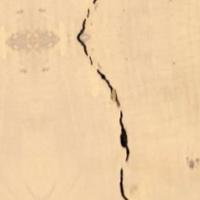crack: (54, 0, 144, 199)
